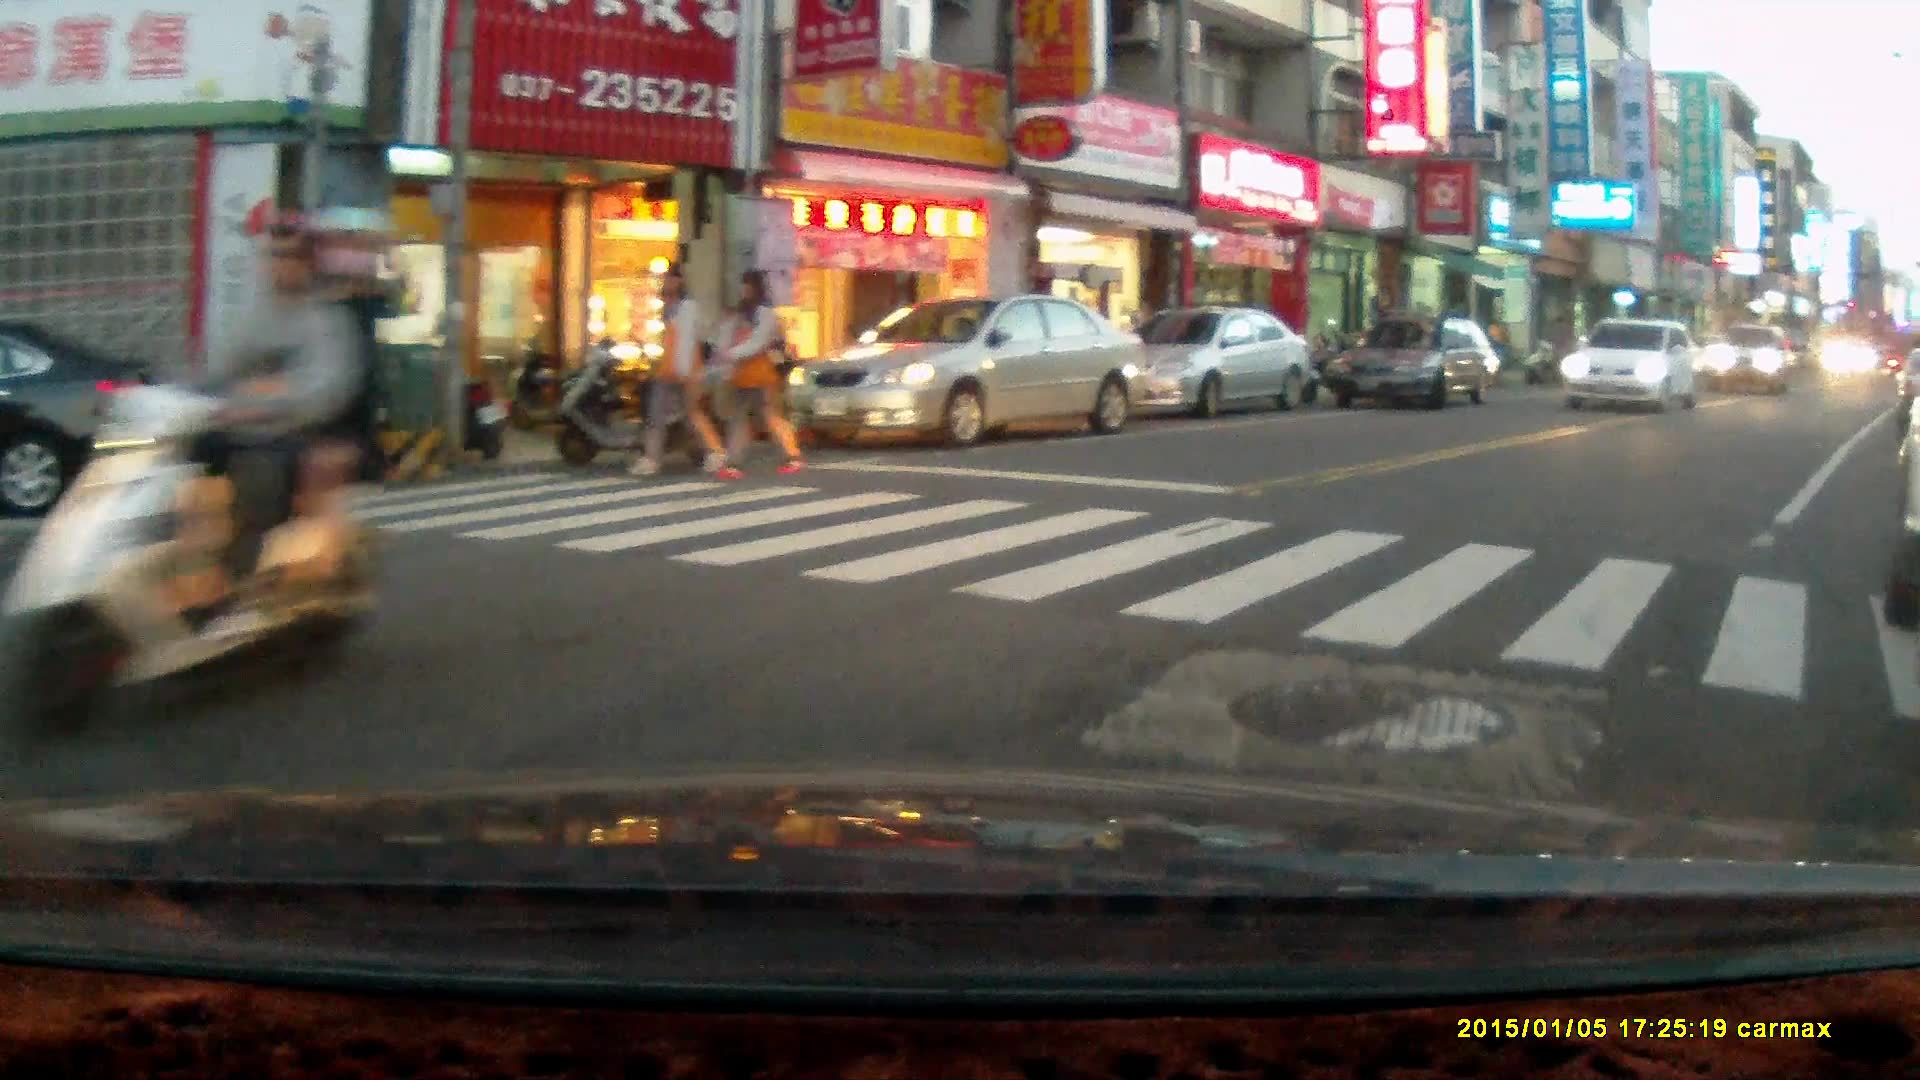pedestrian: (625, 260, 732, 476), (709, 262, 801, 480)
rider: (0, 196, 389, 749)
vehicle: (787, 296, 1150, 446), (1087, 307, 1317, 416), (1325, 316, 1508, 407), (1558, 316, 1705, 407), (1698, 321, 1800, 395), (1817, 332, 1875, 382)
